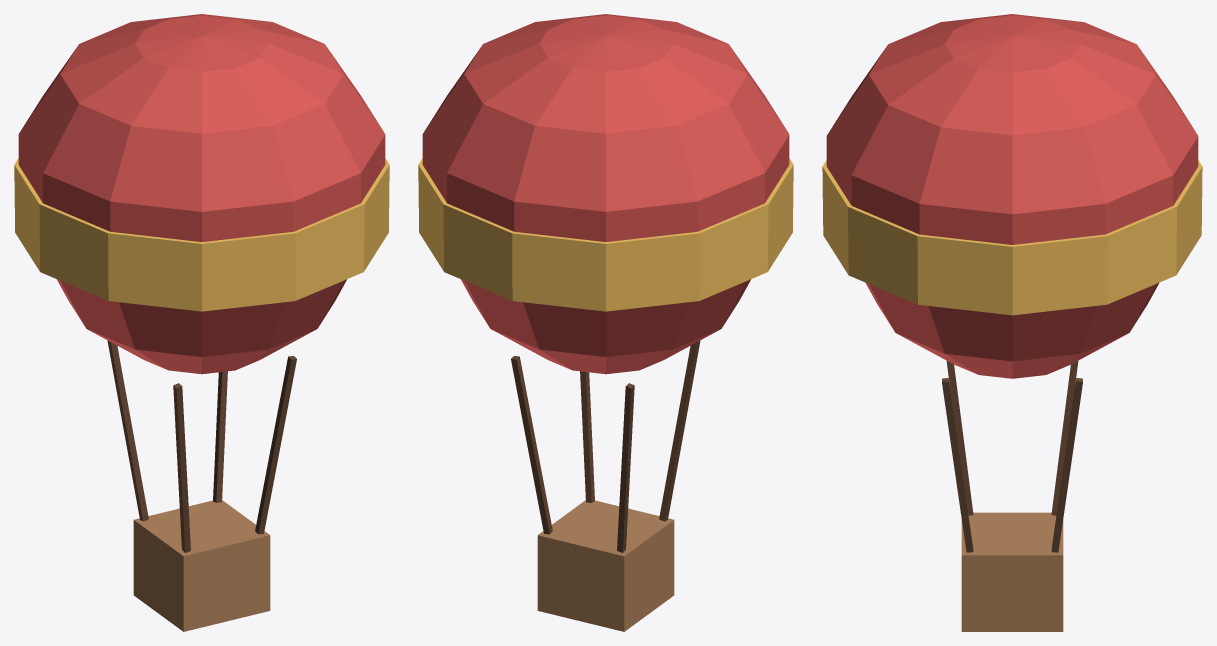
Rendered from deco_hot_air_balloon.obj.
3 renders of one model, left to right at view 1: azimuth 30°, elevation 25°; view 2: azimuth 150°, elevation 25°; view 3: azimuth 270°, elevation 25°, orthographic.
Parts seen in each view (by area): view 1: deco_hot_air_balloon; view 2: deco_hot_air_balloon; view 3: deco_hot_air_balloon.
Part boxes in pixels (<box>): deco_hot_air_balloon: <box>14,14,389,631</box>; deco_hot_air_balloon: <box>418,14,793,631</box>; deco_hot_air_balloon: <box>822,14,1202,631</box>.
Size of the model in its own units: 0.045 by 0.075 by 0.045.
Materials: 1 (1 with a texture image).
